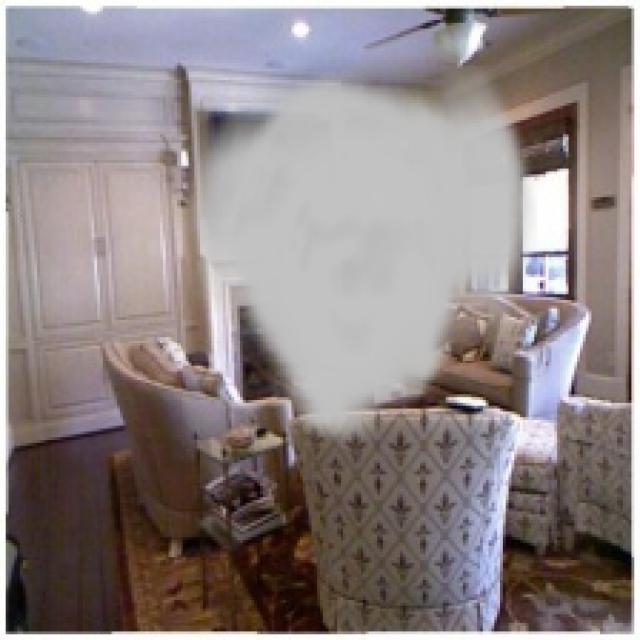Smoke: (177, 66, 537, 448)
